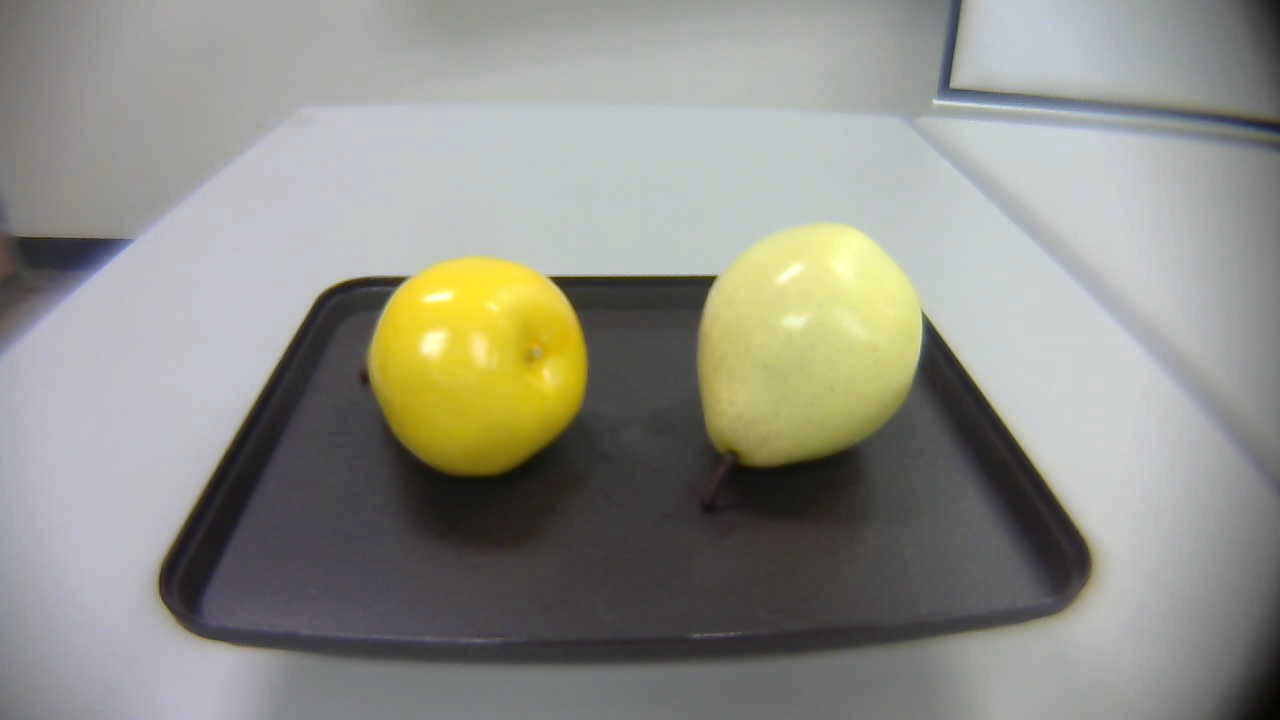western pear: (678, 216, 922, 521)
yellow pear: (339, 243, 599, 476)
